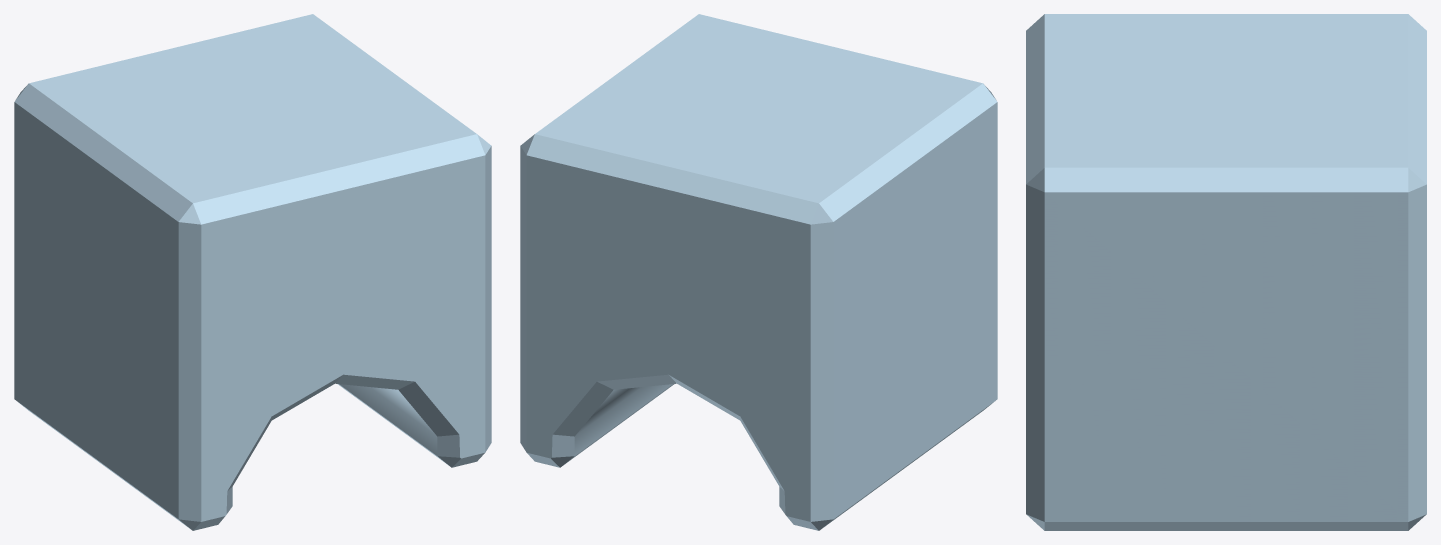
File: R4B_Arch_LOD1.glb
3 renders of one model, left to right at view 1: azimuth 30°, elevation 25°; view 2: azimuth 150°, elevation 25°; view 3: azimuth 270°, elevation 25°, orthographic. The views are drawn at different scales.
Visible parts, largest first — view 1: R4B_Arch_LOD1; view 2: R4B_Arch_LOD1; view 3: R4B_Arch_LOD1.
Boxes of the visible parts, x1=… form: R4B_Arch_LOD1: x1=14, y1=14, x2=491, y2=530; R4B_Arch_LOD1: x1=520, y1=14, x2=997, y2=530; R4B_Arch_LOD1: x1=1026, y1=14, x2=1426, y2=530.
Size of the model in its own units: 0.52 by 0.52 by 0.52.
